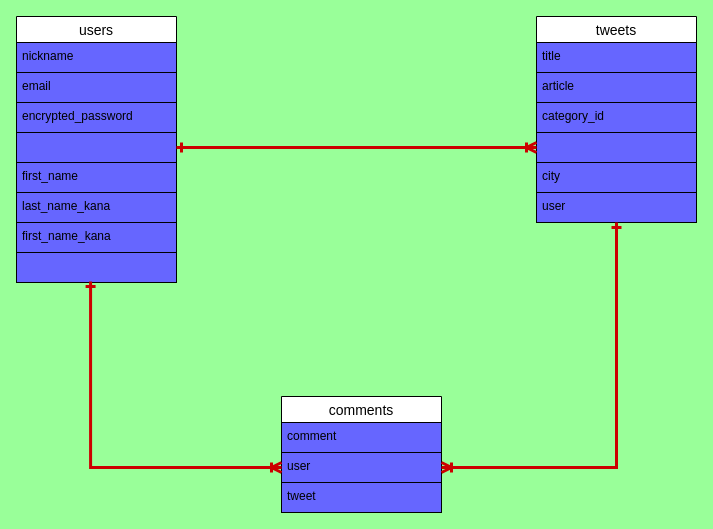
Some shapes in this 713 by 529 pixel diagram are drawn without their labels. Here are the shapes that lost their labels. From the top down, the centre of each, then its label:
At point (96, 147): "last_name".
At point (616, 147): "prefecture_id".
At point (96, 267): "birthday".
